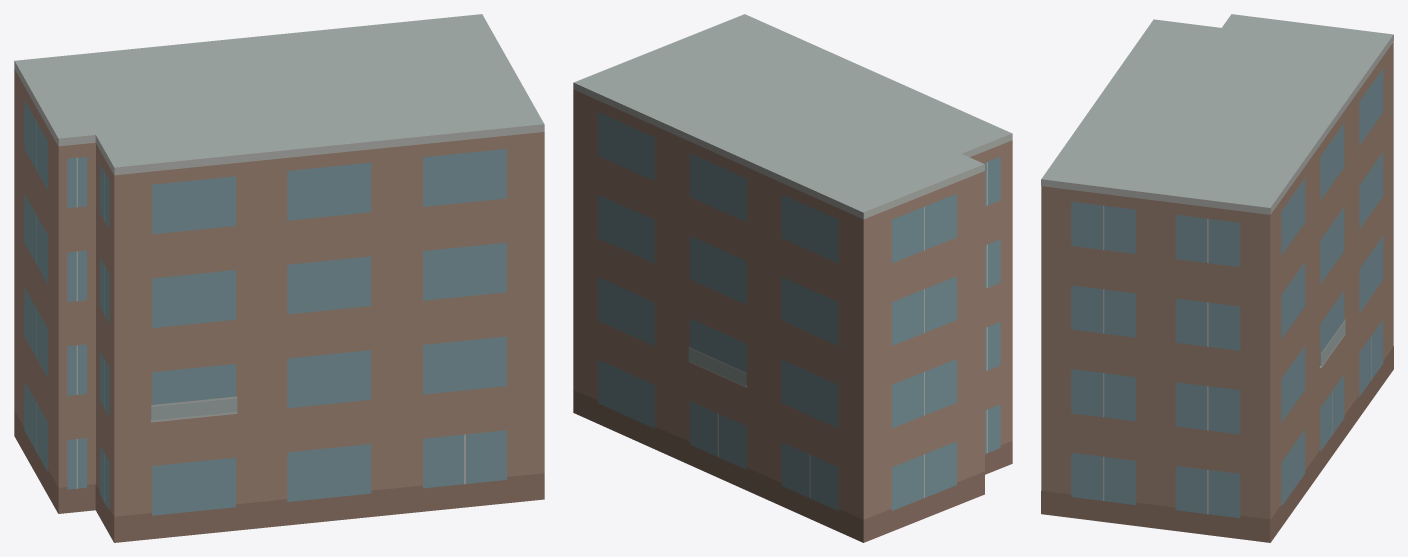
The model's file is survey-upis-32876178.glb.
3 renders of one model, left to right at view 1: azimuth 30°, elevation 25°; view 2: azimuth 150°, elevation 25°; view 3: azimuth 270°, elevation 25°, orthographic. The views are drawn at different scales.
Visible parts, largest first — view 1: survey-upis-32876178.tmp; view 2: survey-upis-32876178.tmp; view 3: survey-upis-32876178.tmp.
Part boxes in pixels (x1,y1,x2,y2): survey-upis-32876178.tmp: (14, 14, 544, 542); survey-upis-32876178.tmp: (573, 14, 1012, 542); survey-upis-32876178.tmp: (1041, 14, 1393, 542).
Size of the model in its own units: 14.8 by 11.9 by 11.37.
